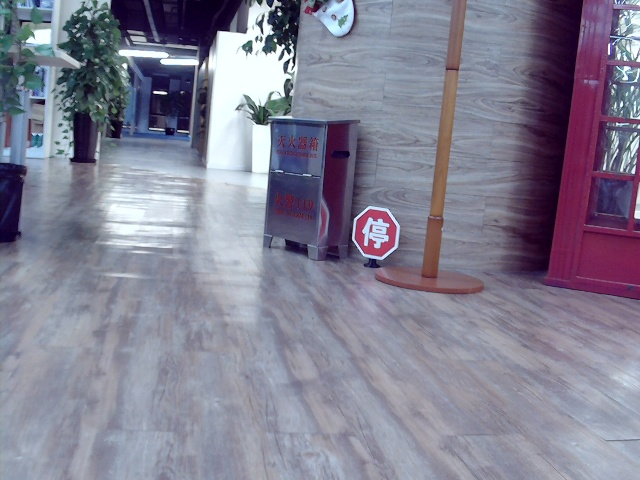stop: (359, 216, 389, 248)
